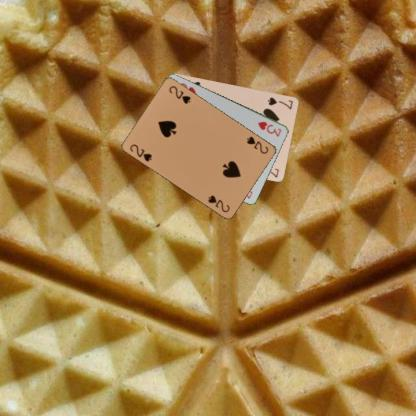2s: (244, 134, 270, 156), (128, 141, 153, 163)
3h: (256, 119, 283, 138)
7s: (265, 95, 294, 110)
